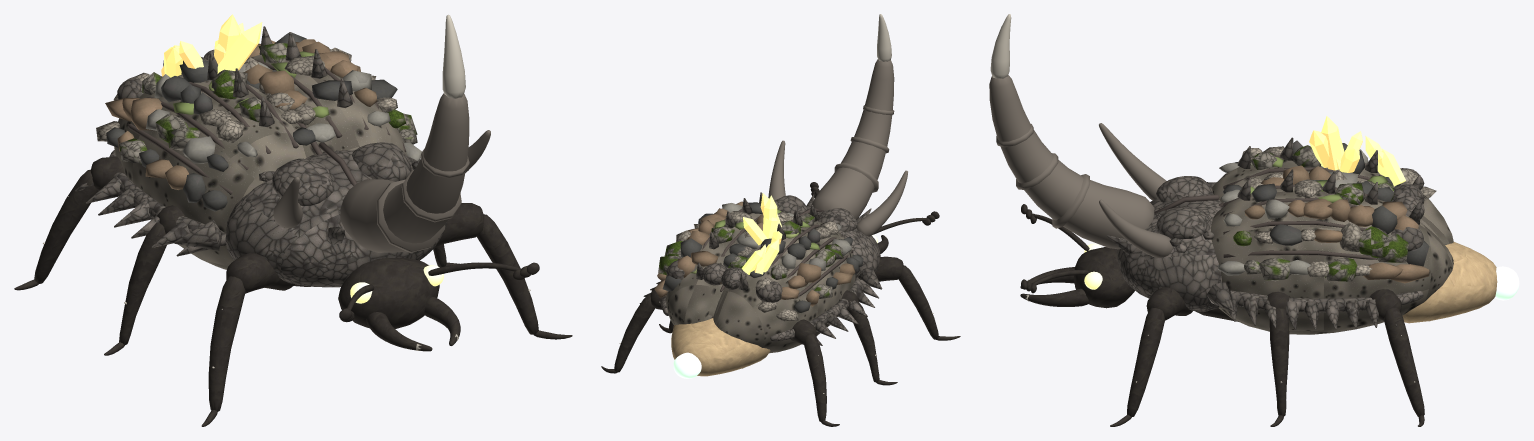
Rendered from great_rock_beetle_v0.glb.
The picture shows the model from 3 angles, left to right: view 1: azimuth 30°, elevation 25°; view 2: azimuth 150°, elevation 25°; view 3: azimuth 270°, elevation 25°; orthographic projection. The views are drawn at different scales.
Visible parts, largest first — view 1: body, leg_l0, leg_r0, leg_l2, leg_l1; view 2: body, leg_l0, leg_l2, leg_r2, leg_l1; view 3: body, leg_r0, leg_r2, leg_r1.
Part boxes in pixels (left/top/right/bottom): body: left=75, top=14, right=539, bottom=351; leg_l0: left=201, top=252, right=294, bottom=426; leg_r0: left=433, top=203, right=572, bottom=339; leg_l2: left=14, top=156, right=124, bottom=290; leg_l1: left=104, top=205, right=184, bottom=355; body: left=639, top=14, right=939, bottom=378; leg_l0: left=875, top=256, right=960, bottom=340; leg_l2: left=790, top=319, right=839, bottom=426; leg_r2: left=601, top=288, right=665, bottom=373; leg_l1: left=841, top=290, right=897, bottom=385; body: left=989, top=14, right=1519, bottom=334; leg_r0: left=1110, top=287, right=1192, bottom=426; leg_r2: left=1369, top=289, right=1424, bottom=426; leg_r1: left=1264, top=291, right=1289, bottom=426.
Size of the model in its own units: 1.16 by 1.24 by 1.75.
Materials: 17 (9 with a texture image).
